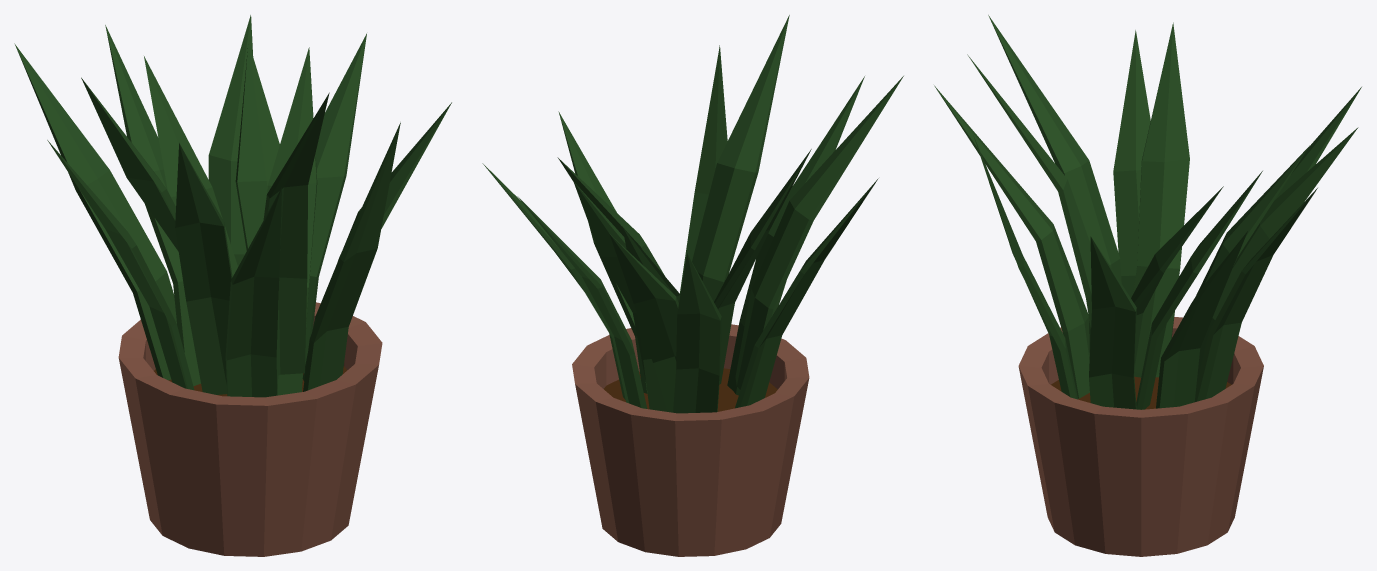
Rendered from Pflanze.fbx.
The picture shows the model from 3 angles, left to right: view 1: azimuth 30°, elevation 25°; view 2: azimuth 150°, elevation 25°; view 3: azimuth 270°, elevation 25°; orthographic projection. The views are drawn at different scales.
Visible parts, largest first — view 1: Pflanze; view 2: Pflanze; view 3: Pflanze.
Part boxes in pixels (bbox=[...]): Pflanze: bbox=[14, 15, 451, 556]; Pflanze: bbox=[482, 15, 903, 556]; Pflanze: bbox=[934, 15, 1361, 556].
Size of the model in its own units: 614 by 762 by 649.
